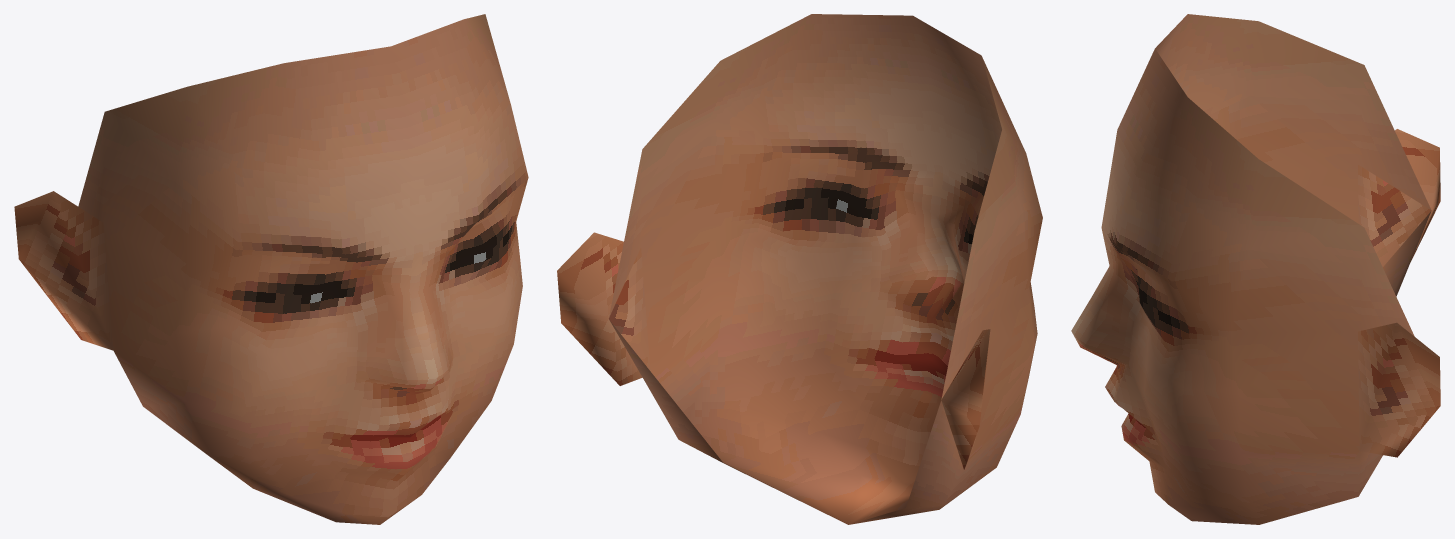
3 renders of one model, left to right at view 1: azimuth 30°, elevation 25°; view 2: azimuth 150°, elevation 25°; view 3: azimuth 270°, elevation 25°, orthographic. The views are drawn at different scales.
Bounding box in the file's own units: 19.4 × 20.15 × 14.47.
Materials: 1 (1 with a texture image).
